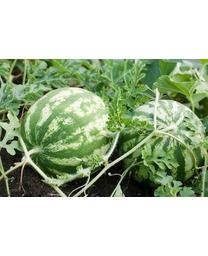watermelon: (20, 87, 116, 175), (127, 101, 204, 183)
